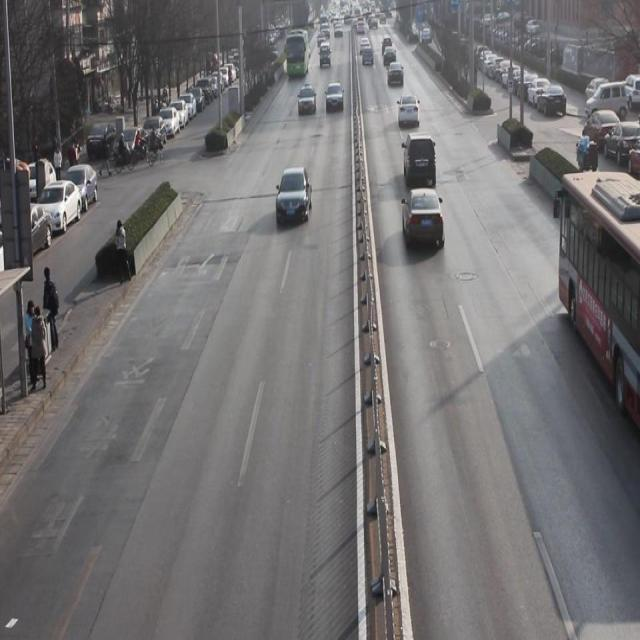car: (402, 184, 445, 248), (274, 165, 312, 223), (402, 130, 439, 185), (397, 91, 422, 126), (298, 82, 316, 114), (326, 81, 344, 110)
truck: (319, 41, 332, 68)
van: (559, 165, 640, 422)
